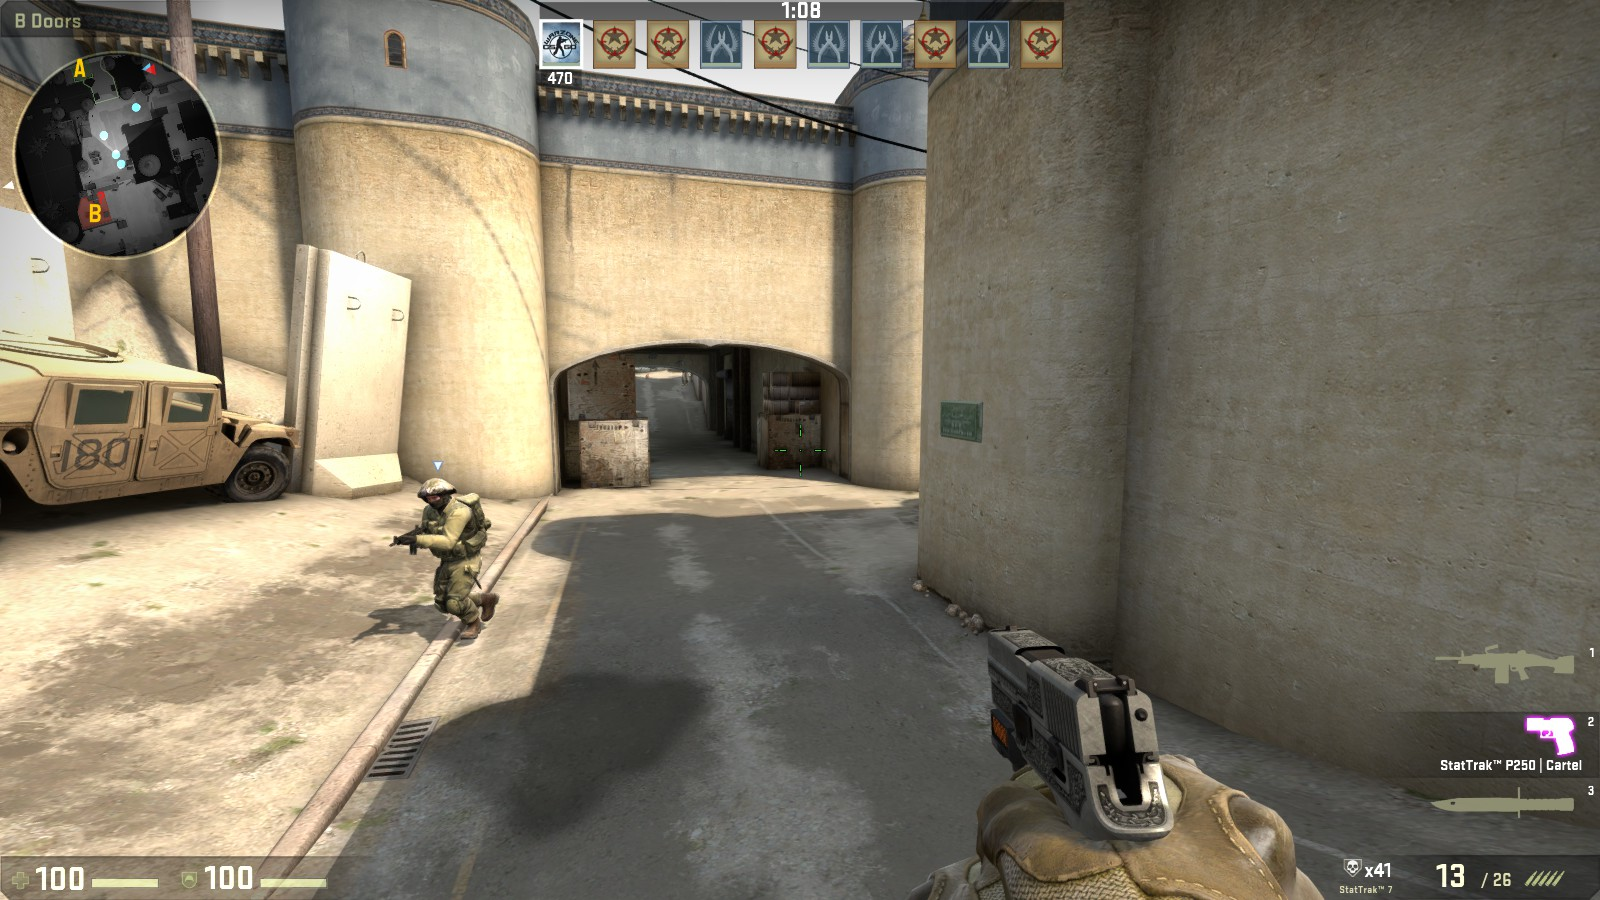c: (413, 475, 495, 638)
ch: (418, 475, 453, 509)
